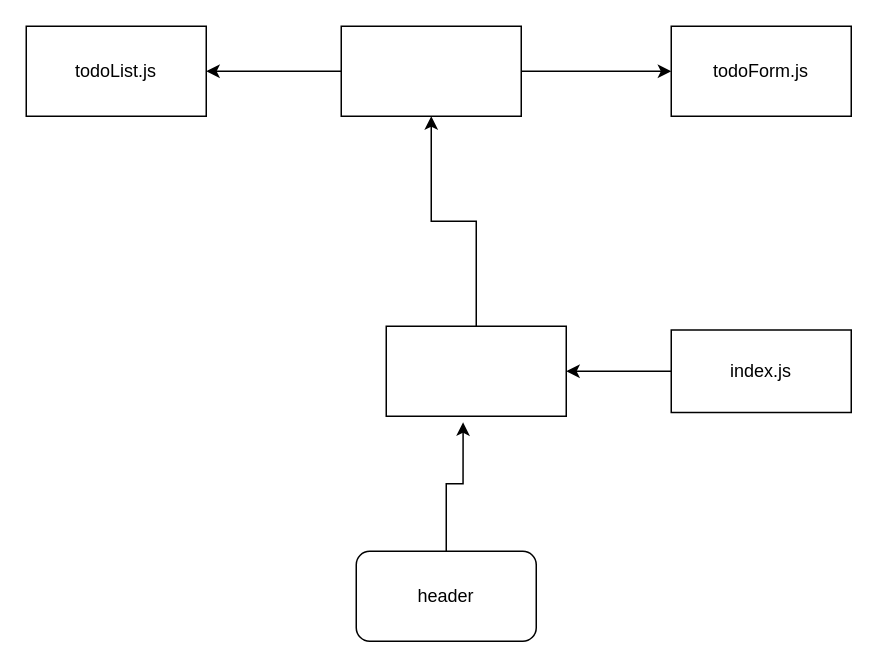
Image size: 878x668. Some labels were removed from this diagram. The shapes that lost their labels are listed below. From the top down, each one's centre as x and y in pixels, then its label:
At (x=430, y=70): "todo.js".
At (x=475, y=370): "app.js".
